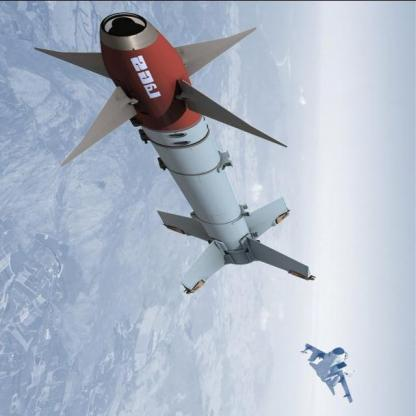MIL_TBM: (102, 5, 250, 302)
